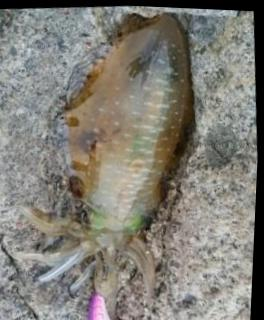Cephalopod: (27, 13, 193, 296)
